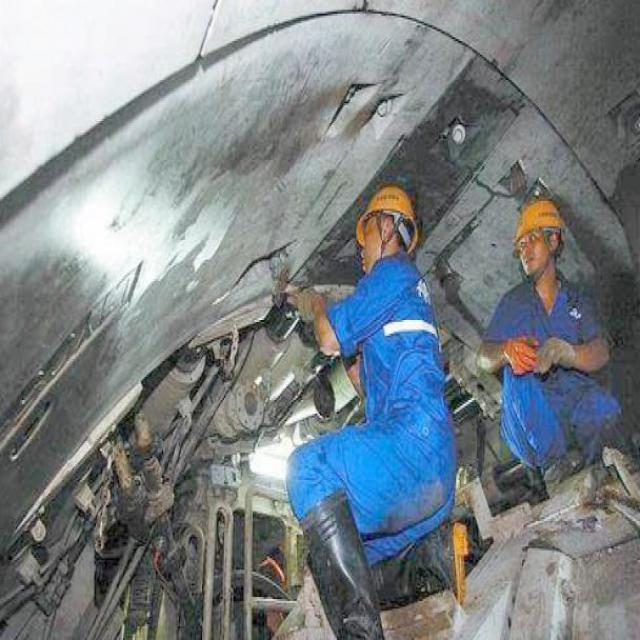gloves: (500, 322, 583, 378), (287, 276, 320, 316)
helmet: (339, 172, 420, 271), (496, 191, 574, 285)
